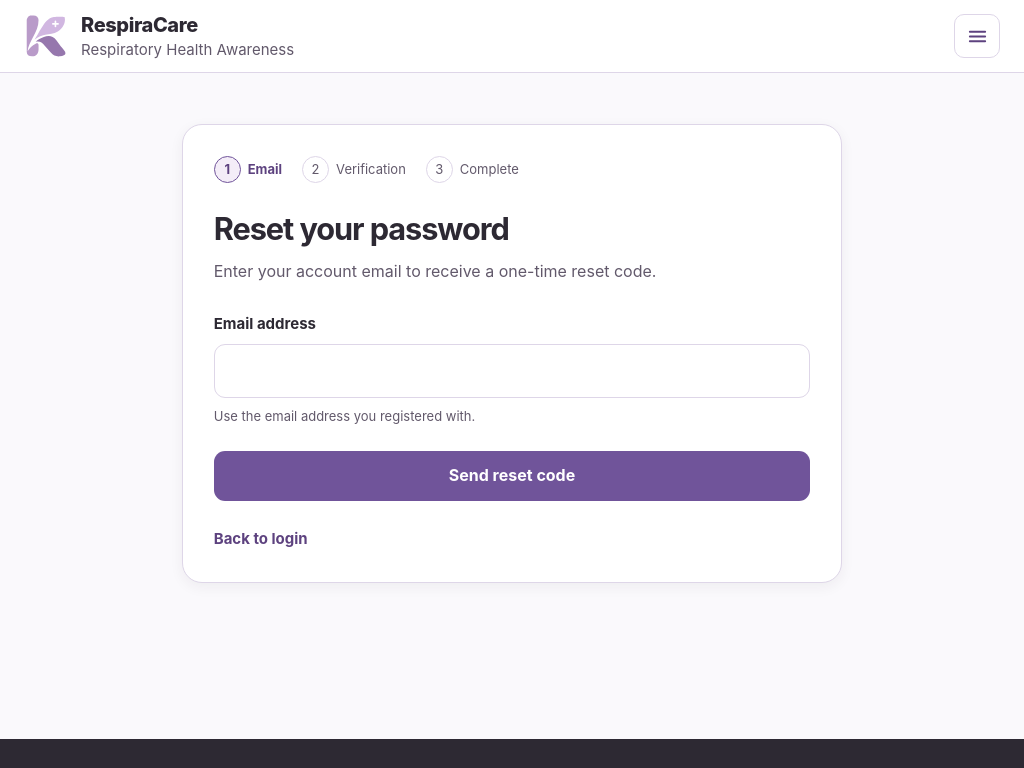
it: forgotten-password recovery › requests a code using a normalised email and shows a generic delivery message
Type "PERSON@EXAMPLE.COM" into the field labelled "Email address" at [512, 371], box [214,344,810,398]
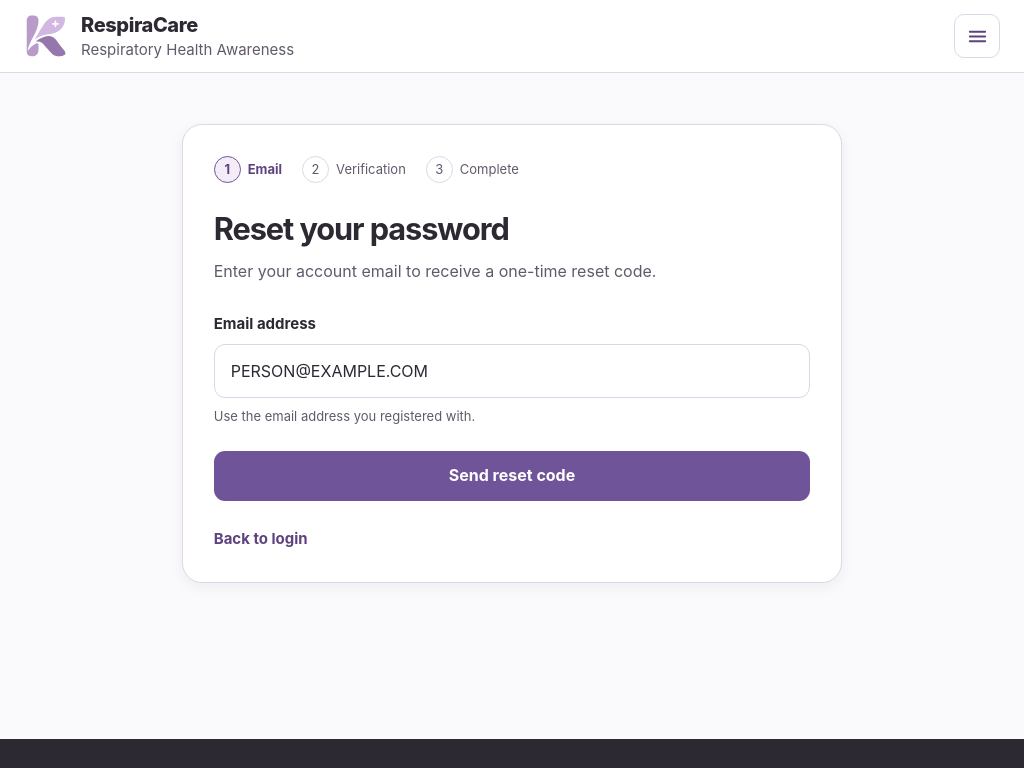
Click the button "Send reset code" at [512, 476], box [214,451,810,501]
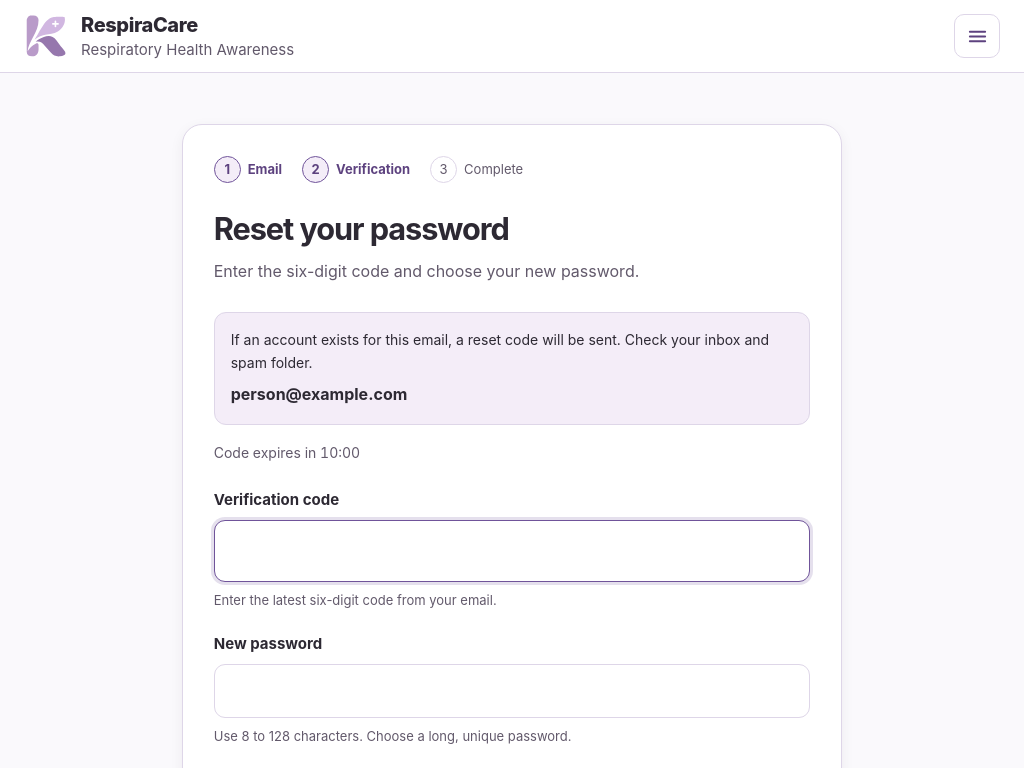
expect the field labelled "Verification code" is shown: met, box [214,520,810,582]
expect the text "If an account exists for this email" is shown: met, box [231,331,769,371]
expect the text "Code expires in 10:00" is shown: met, box [214,444,360,460]
